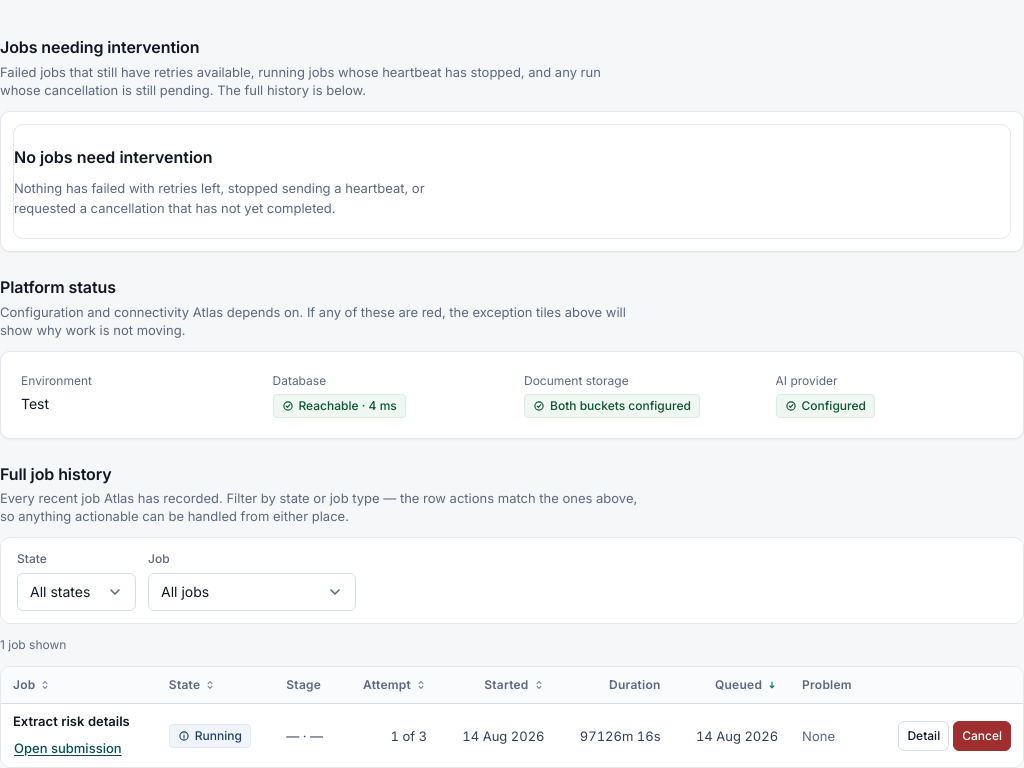
NEW-3: Cancel-job ConfirmDialog focus trap › closes the Cancel dialog on the in-modal Cancel button without mutating and returns focus
(page scrolled)
Expected: the heading "Full job history" is shown, [0,464,112,484]
Click the button "Cancel" at (982, 736), box [953,721,1011,751]
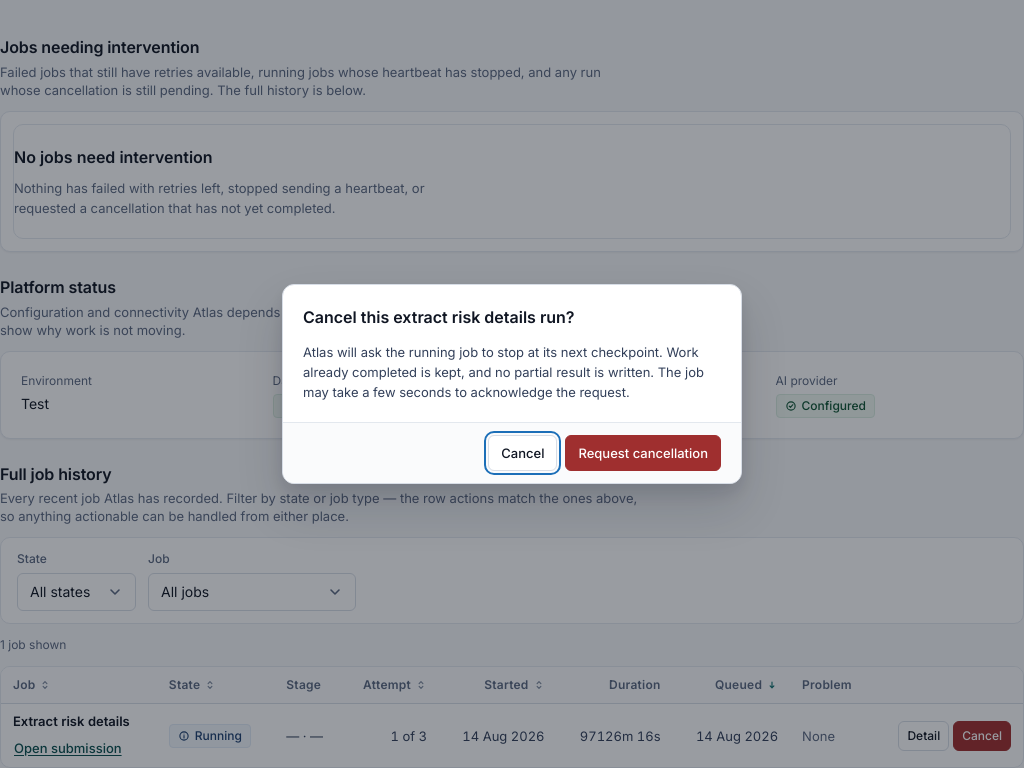
Click the button "Cancel" at (523, 453), box [488,435,558,471]
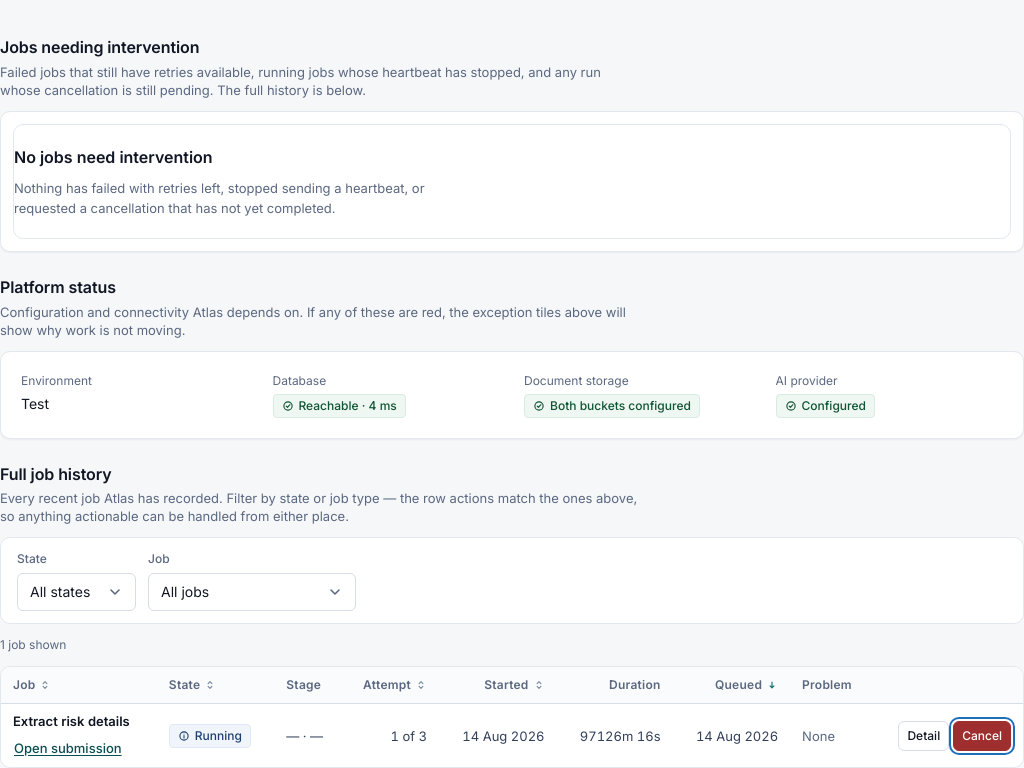
Expected: the dialog is gone
